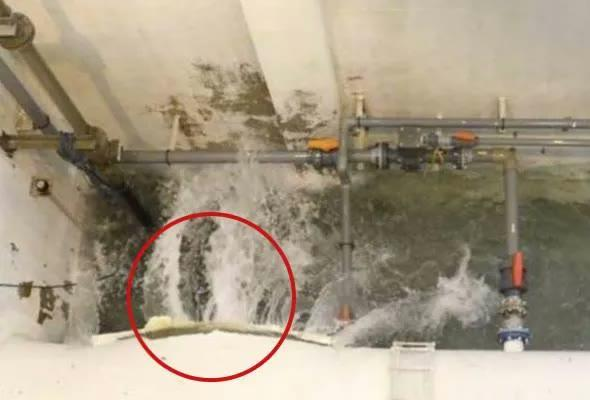pipe burst: (139, 167, 497, 344), (61, 269, 102, 346)
